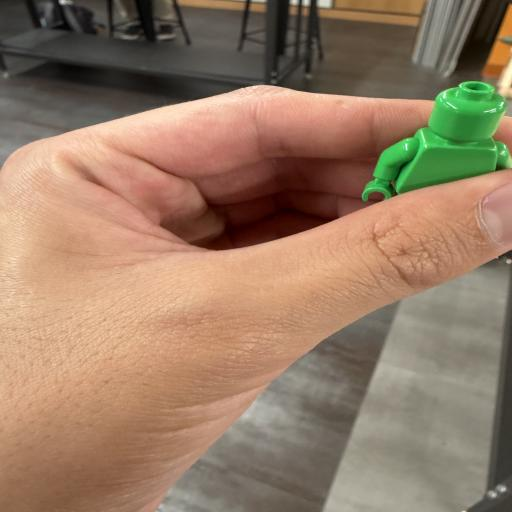Green-Lego: (395, 81, 512, 193)
